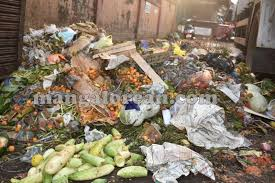garbage: (27, 31, 154, 183), (162, 52, 244, 181), (246, 84, 275, 153)
